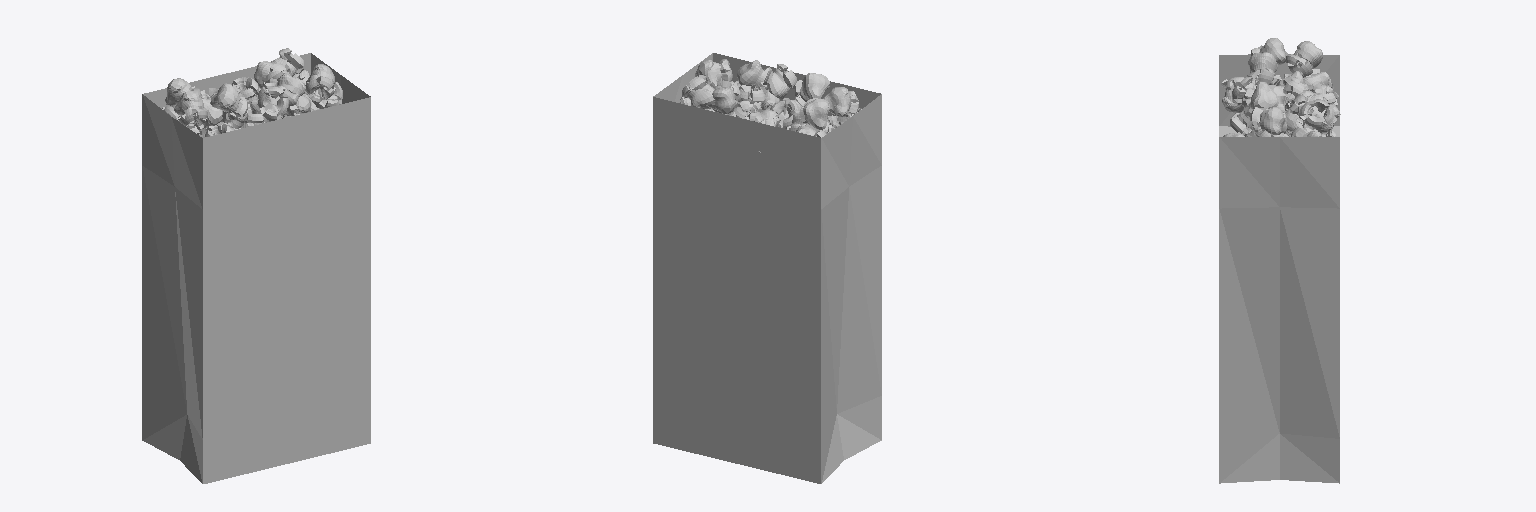
The model's file is full.obj.
3 renders of one model, left to right at view 1: azimuth 30°, elevation 25°; view 2: azimuth 150°, elevation 25°; view 3: azimuth 270°, elevation 25°, orthographic.
Bounding box in the file's own units: 2.02 × 4.22 × 1.25.